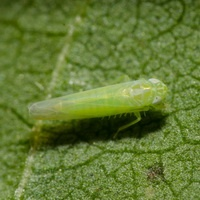insect: (29, 78, 167, 137), (29, 78, 167, 135)
